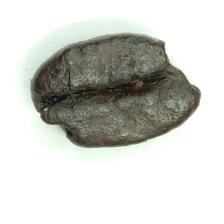NG: (158, 34, 201, 103), (31, 110, 81, 145)
